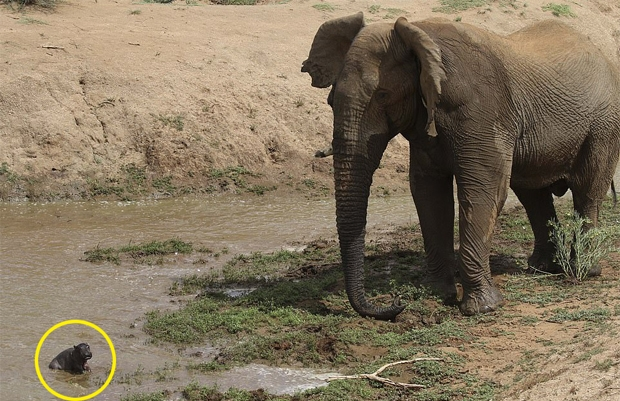Elephant: (287, 9, 616, 317)
